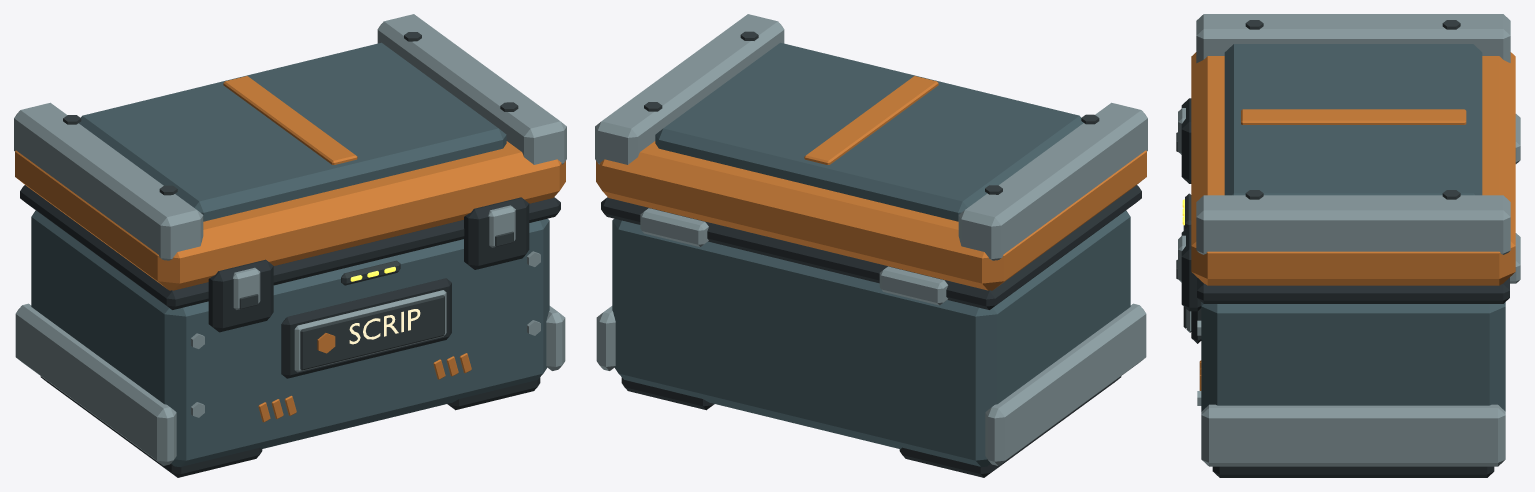
The model's file is e1d-band1-scrip-opening.glb.
3 renders of one model, left to right at view 1: azimuth 30°, elevation 25°; view 2: azimuth 150°, elevation 25°; view 3: azimuth 270°, elevation 25°, orthographic. The views are drawn at different scales.
Parts seen in each view (by area): view 1: E1d_ScripChest_FixedShell, E1d_ScripChest_Lid; view 2: E1d_ScripChest_FixedShell, E1d_ScripChest_Lid; view 3: E1d_ScripChest_Lid, E1d_ScripChest_FixedShell.
Part boxes in pixels (x1,y1,x2,y2): E1d_ScripChest_FixedShell: (15,185,565,477); E1d_ScripChest_Lid: (14,14,566,309); E1d_ScripChest_FixedShell: (596,185,1146,477); E1d_ScripChest_Lid: (595,14,1147,290); E1d_ScripChest_Lid: (1176,14,1515,285); E1d_ScripChest_FixedShell: (1181,98,1520,477).
Size of the model in its own units: 1.4 by 0.9 by 1.
